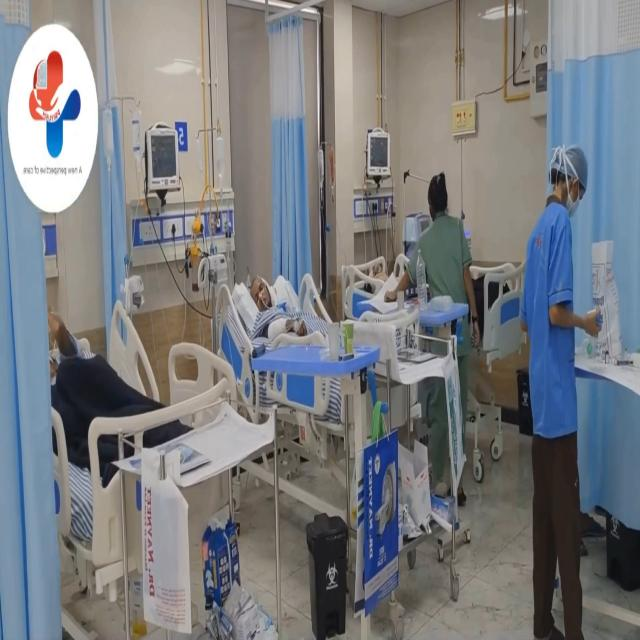Movement-Yes: (48, 271, 97, 447)
